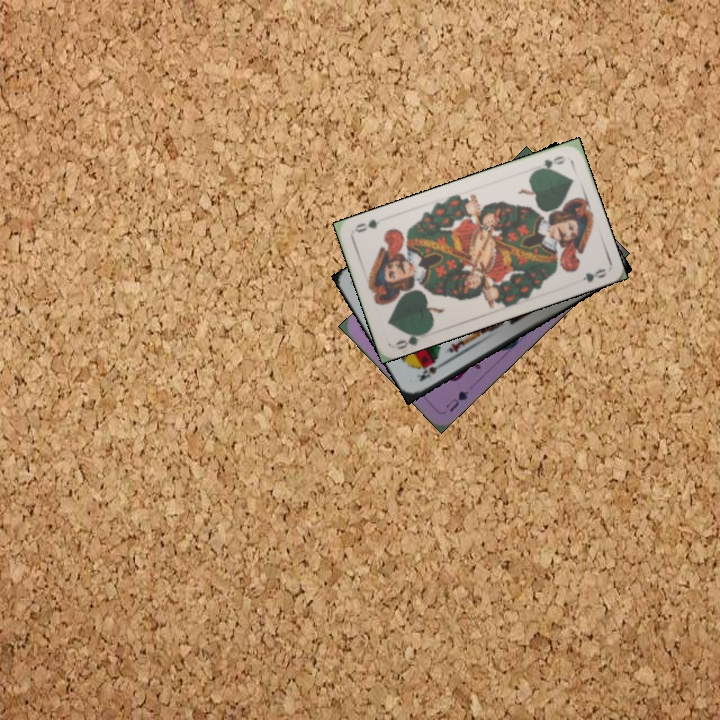GO: (391, 328, 430, 352), (530, 152, 569, 174)
GU: (442, 387, 471, 414)
SK: (412, 357, 448, 384)
